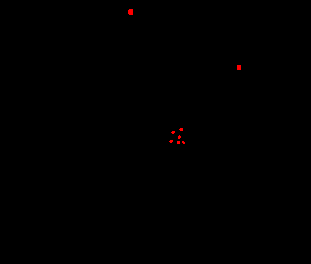Target: (128, 9, 133, 15), (237, 65, 241, 70), (179, 128, 183, 131), (171, 131, 175, 134), (178, 135, 181, 139), (169, 140, 173, 143), (177, 141, 180, 144), (182, 141, 185, 144)
